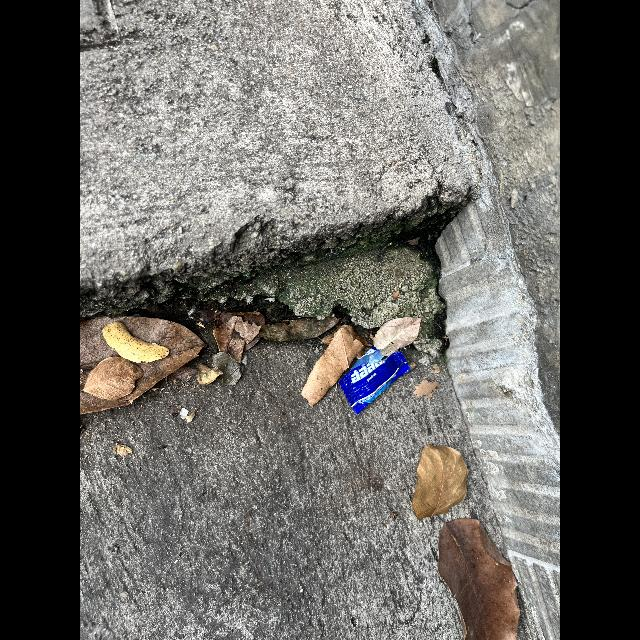scrap_plastic: (338, 337, 417, 413)
